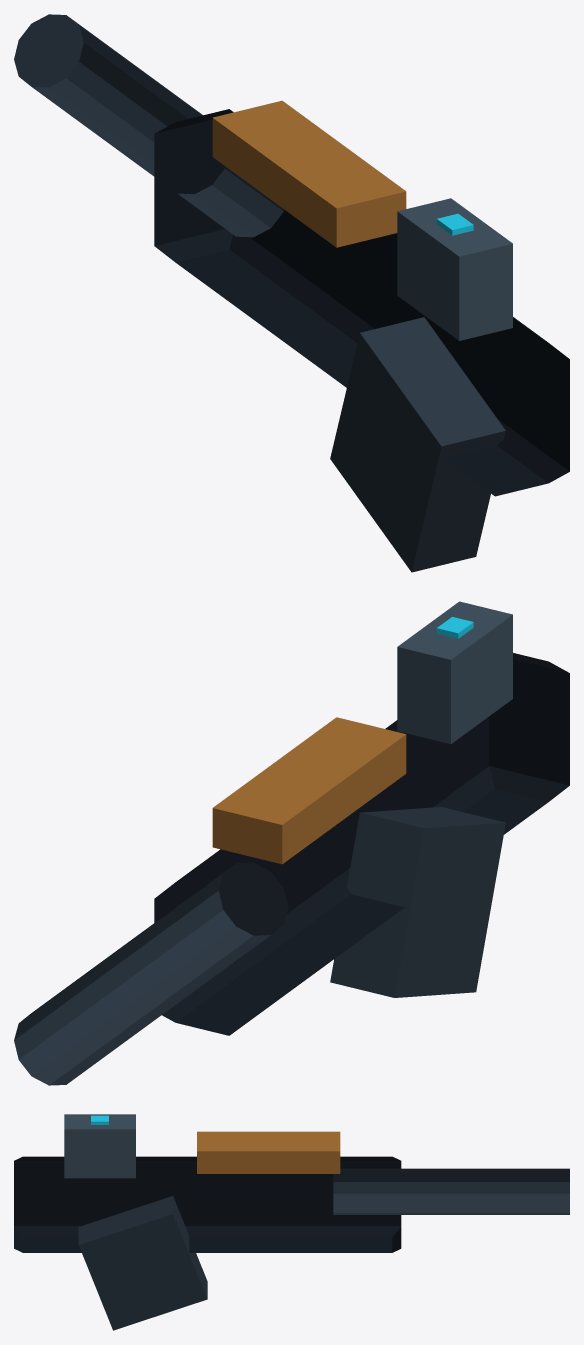
Rendered from vanguard_rifle.obj.
3 renders of one model, top to bottom at view 1: azimuth 30°, elevation 25°; view 2: azimuth 150°, elevation 25°; view 3: azimuth 270°, elevation 25°, orthographic. The views are drawn at different scales.
Parts seen in each view (by area): view 1: vanguard_rifle; view 2: vanguard_rifle; view 3: vanguard_rifle.
Part boxes in pixels (x1,y1,x2,y2): vanguard_rifle: (14,14,569,572); vanguard_rifle: (14,601,569,1085); vanguard_rifle: (14,1114,569,1330).
Size of the model in its own units: 0.15 by 0.6245 by 1.55.
